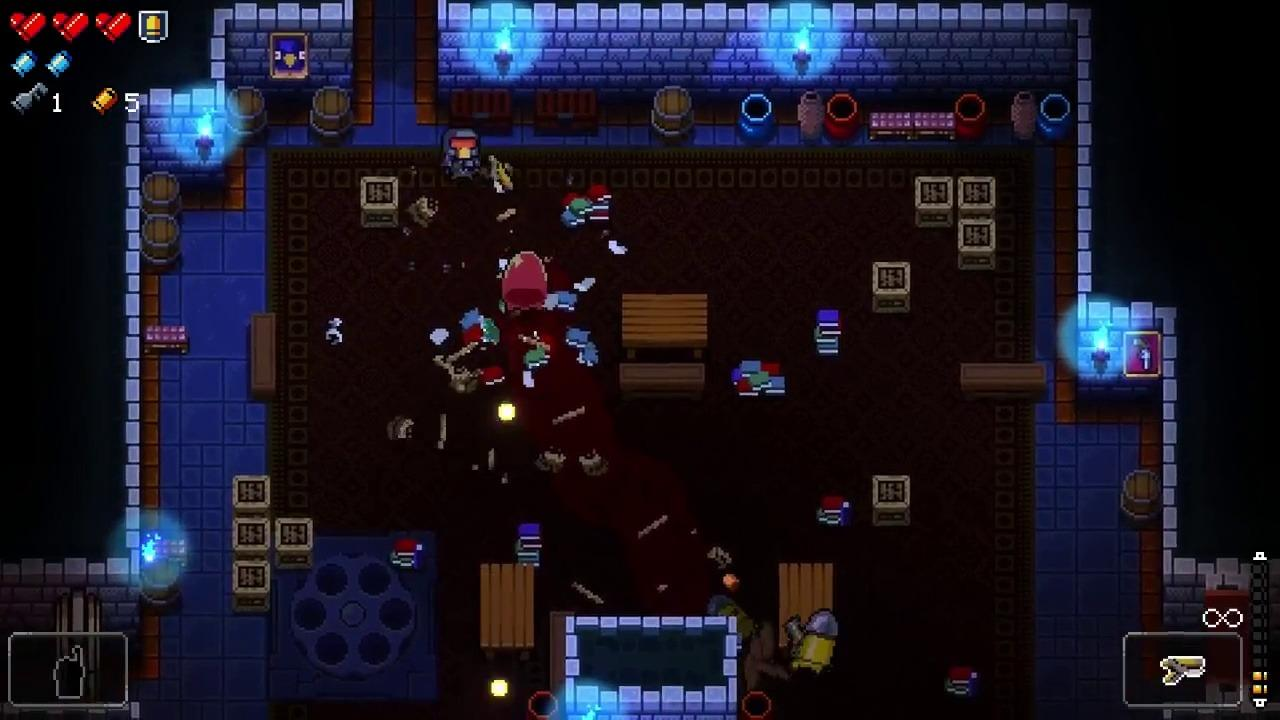blobulon_l: (500, 250, 549, 309)
bullet_kin: (790, 613, 839, 676)
locked_door: (52, 588, 102, 707)
player: (442, 127, 481, 185)
table: (621, 292, 708, 358), (481, 563, 535, 660), (779, 564, 834, 656)
teleporter: (266, 531, 437, 699)
wall: (566, 615, 737, 720)
